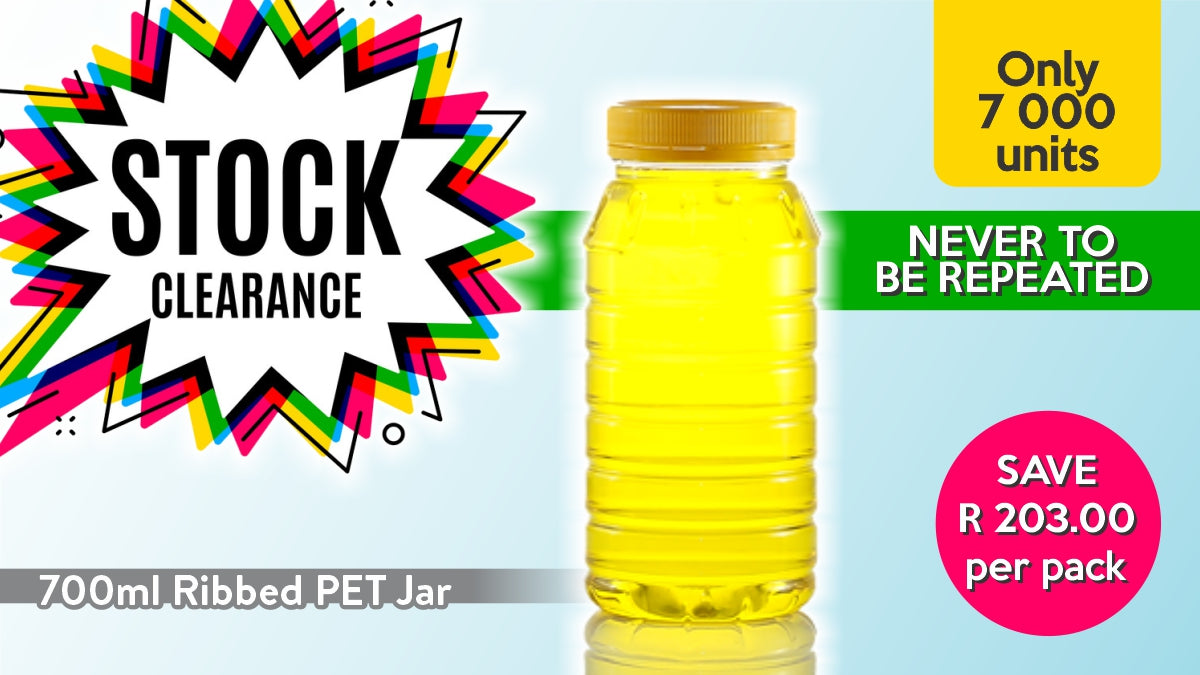plastic_bottle: (561, 80, 832, 633)
